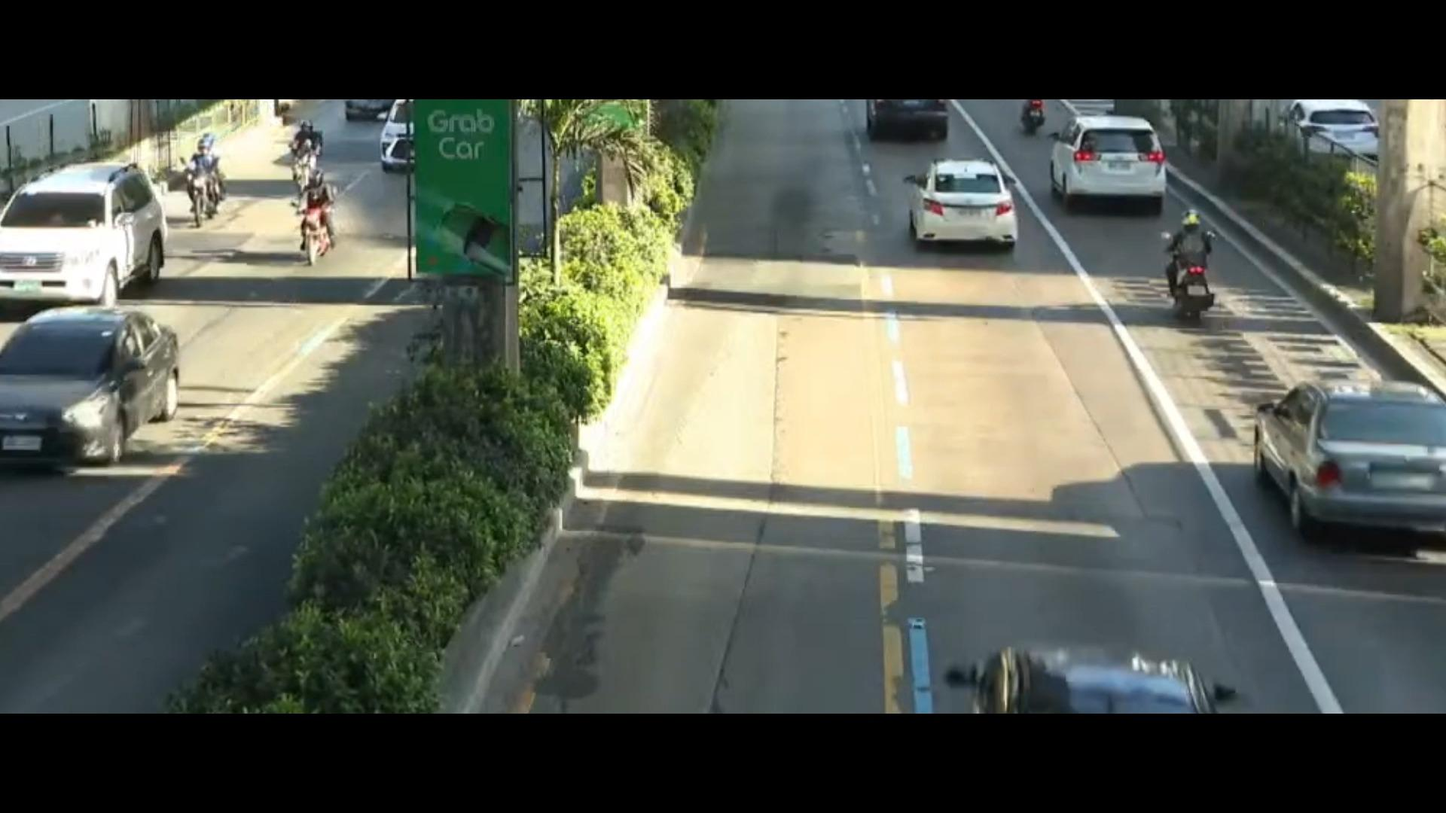Motorcycle: (1137, 204, 1239, 333), (280, 164, 356, 279), (179, 130, 245, 224), (281, 117, 343, 185)
SUV: (0, 138, 162, 313), (1038, 111, 1176, 221)
Sedan: (1239, 360, 1446, 566), (930, 593, 1231, 715), (0, 298, 202, 474), (890, 149, 1042, 261)
